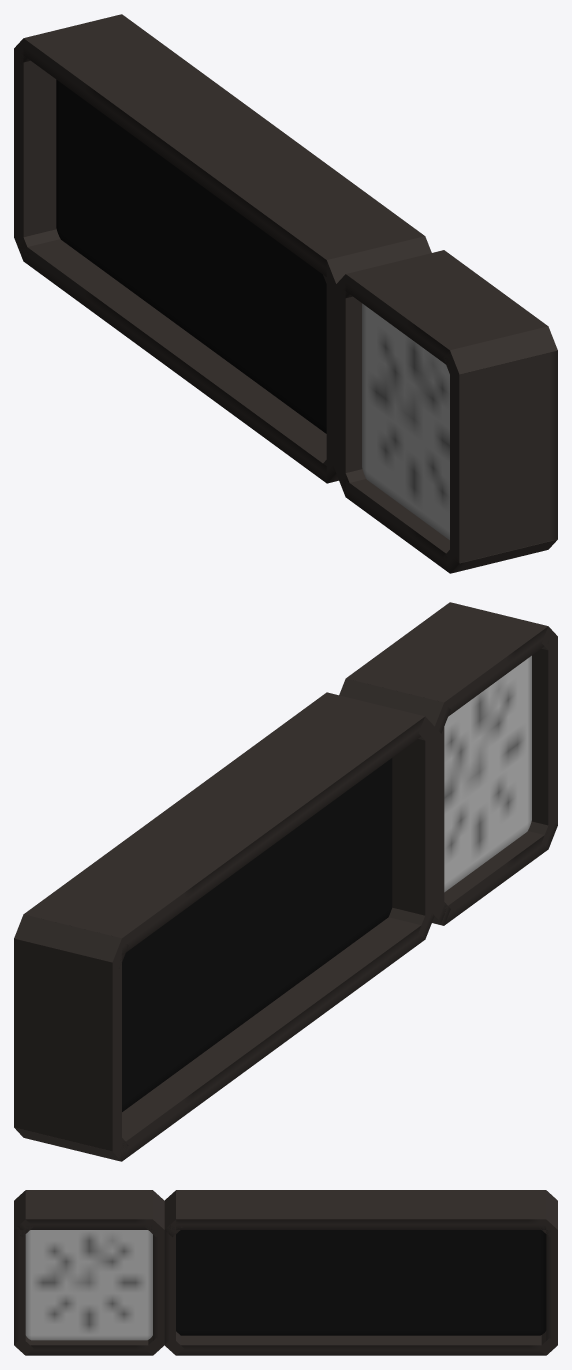
File: hvv_pids_normal.obj
3 renders of one model, top to bottom at view 1: azimuth 30°, elevation 25°; view 2: azimuth 150°, elevation 25°; view 3: azimuth 270°, elevation 25°, orthographic. The views are drawn at different scales.
Parts seen in each view (by area): view 1: cube; view 2: cube; view 3: cube.
Boxes of the visible parts, x1,y1,x2,y2 form: cube: (14,14,557,573); cube: (14,602,557,1161); cube: (14,1190,557,1355).
Bounding box in the file's own units: 0.375 × 0.8134 × 2.94.
1 material, 1 textured.
